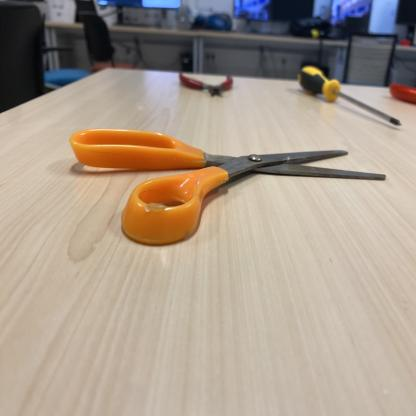scissors: (70, 127, 389, 246)
